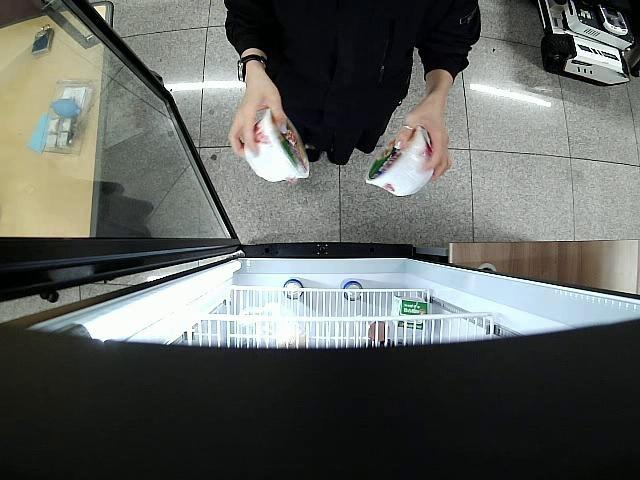09_yukGaeJang: (244, 108, 308, 187), (364, 125, 430, 196)
